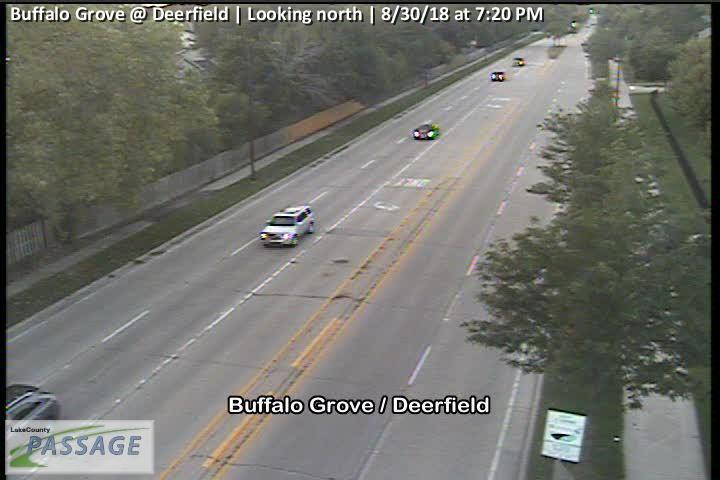SUV: (256, 206, 314, 246)
Sedan: (413, 122, 440, 139)
